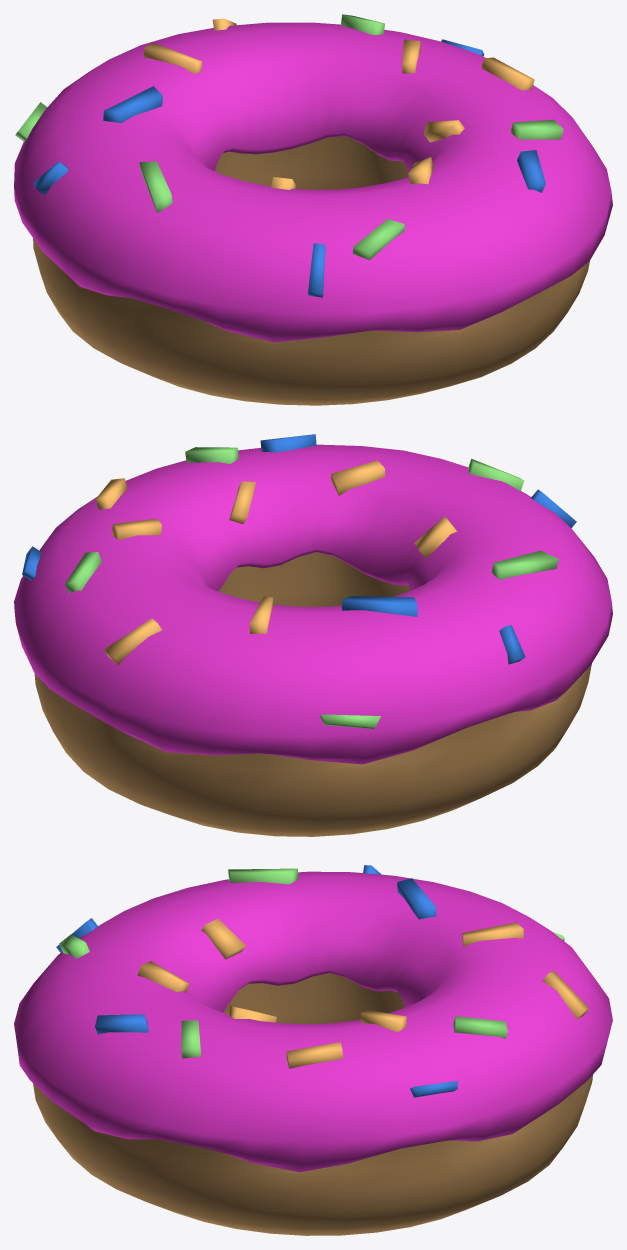
File: donuts.fbx
3 renders of one model, top to bottom at view 1: azimuth 30°, elevation 25°; view 2: azimuth 150°, elevation 25°; view 3: azimuth 270°, elevation 25°, orthographic. The views are drawn at different scales.
Parts seen in each view (by area): view 1: Donut; view 2: Donut; view 3: Donut.
Part boxes in pixels (x1,y1,x2,y2): Donut: [14, 14, 612, 405]; Donut: [14, 434, 612, 836]; Donut: [14, 865, 612, 1235].
Bounding box in the file's own units: 225 × 92.33 × 239.
